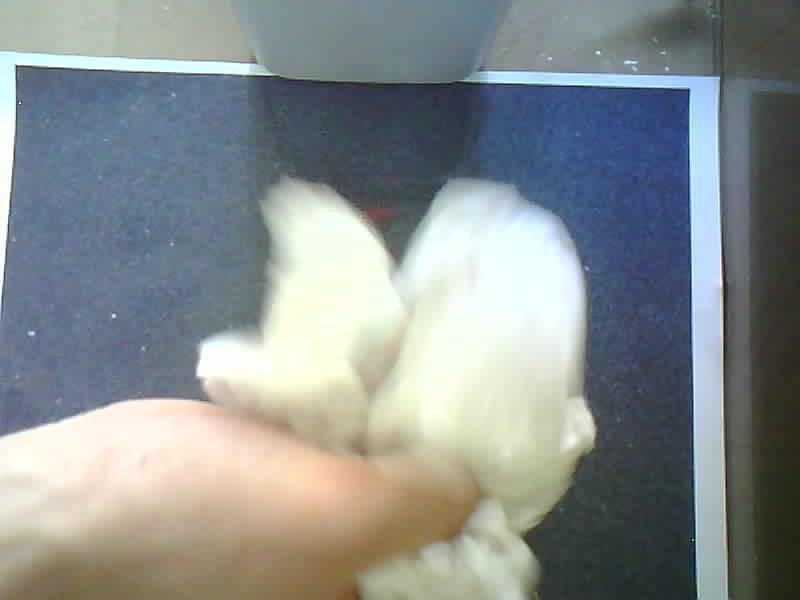paper: (197, 176, 595, 598)
